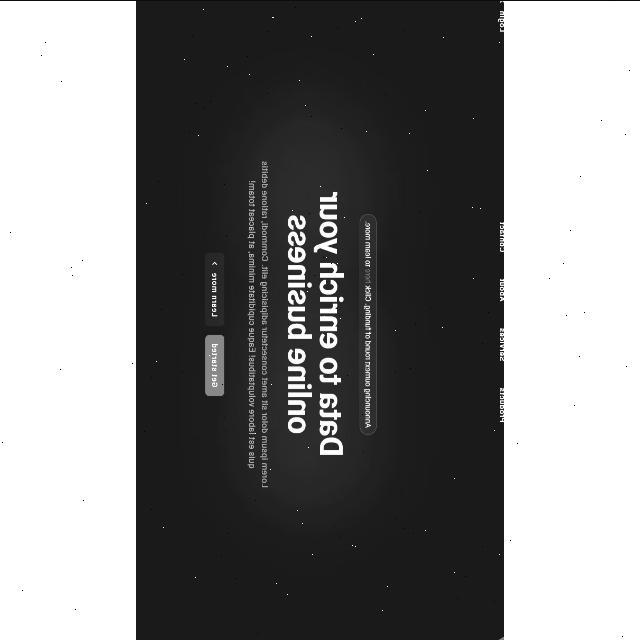QLabel: (314, 190, 344, 456), (286, 213, 312, 433), (260, 160, 268, 488), (247, 178, 256, 468), (364, 284, 372, 428), (210, 342, 218, 388), (364, 220, 370, 266), (498, 325, 504, 361), (498, 388, 504, 422), (498, 220, 504, 252), (212, 270, 216, 316), (498, 276, 504, 302), (498, 8, 504, 32), (364, 268, 372, 282)
VBtn: (359, 213, 377, 434), (203, 250, 224, 326), (203, 332, 224, 396)
VIcon: (494, 632, 504, 640), (212, 260, 216, 266), (498, 0, 504, 2)
